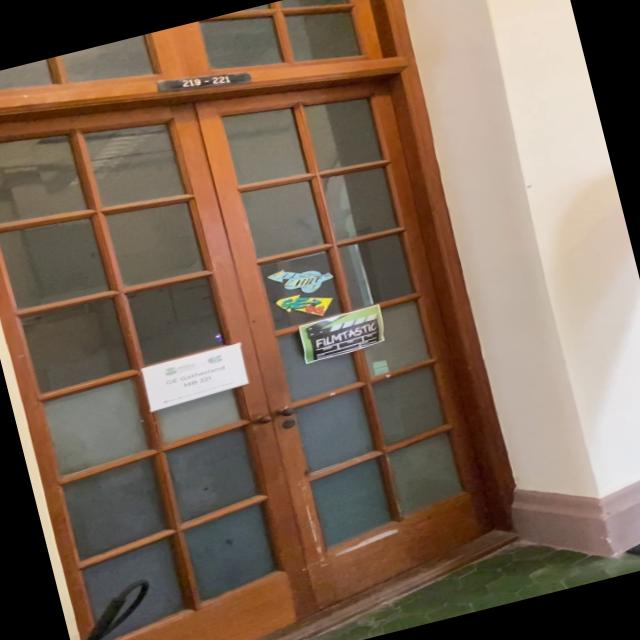room221: (154, 56, 257, 106)
